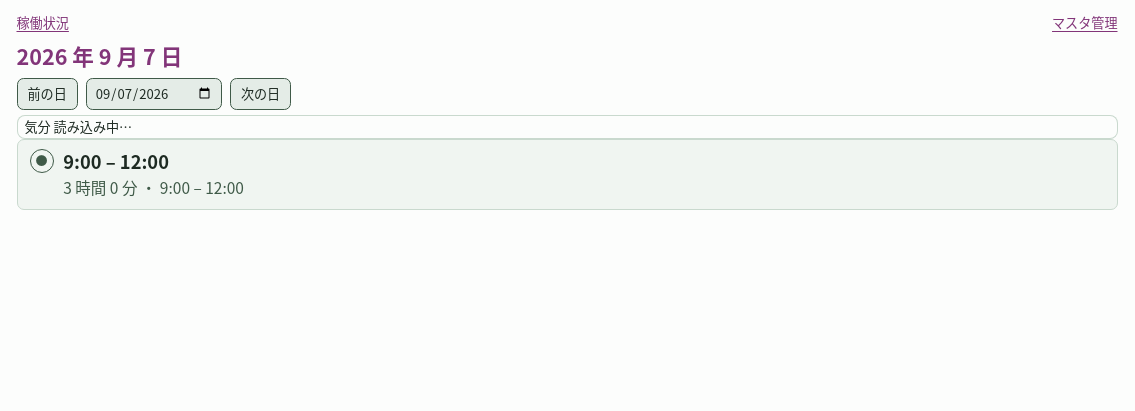
Test case: 畳んだ行 › 開いた中で VS Code の 23 件は「9:02 – 9:xx」「PC」「VS Code」「23 件」の 1 行、次が Chrome
Click the button "9:00 – 12:00 3 時間 0 分 ・ 9:00 – 12:00" at (116, 161), box [63,149,1104,200]
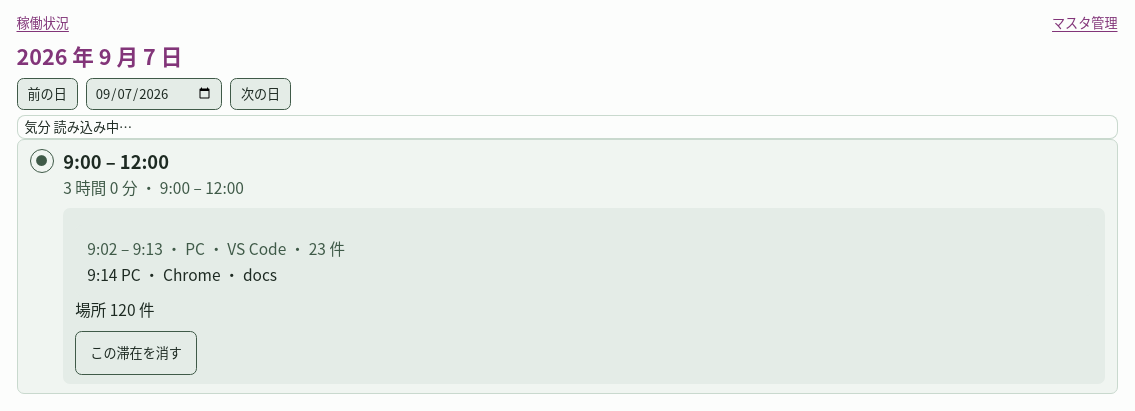
expect the list with test id "records" is shown: met, box [75,225,1092,296]
expect the list item "9:14 PC ・ Chrome ・ docs" is shown: met, box [87,263,277,285]
